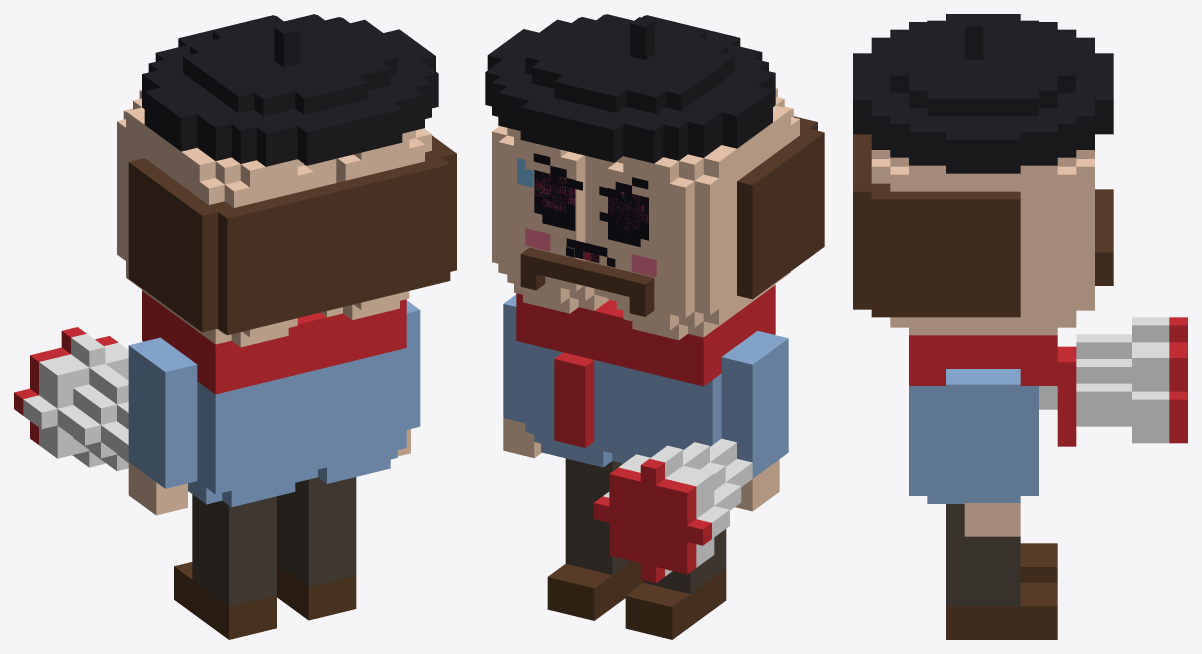
The model's file is director.obj.
The picture shows the model from 3 angles, left to right: view 1: azimuth 30°, elevation 25°; view 2: azimuth 150°, elevation 25°; view 3: azimuth 270°, elevation 25°; orthographic projection. The views are drawn at different scales.
Parts seen in each view (by area): view 1: pelo, boina, camisa, pantalon, cabeza, bufanda, brazos, megafono, zapatos, manos, megafono_borde; view 2: boina, cabeza, bufanda, camisa, pelo, brazos, megafono_borde, zapatos, pantalon, megafono, bigote, cara_feliz_ojos (+6 smaller); view 3: boina, pelo, cabeza, megafono, brazos, bufanda, camisa, zapatos, pantalon, megafono_borde, manos, bigote.
Boxes of the visible parts, left/top/right/bottom form: pelo: left=128, top=135, right=456, bottom=335; boina: left=142, top=14, right=438, bottom=166; camisa: left=188, top=348, right=406, bottom=507; pantalon: left=192, top=477, right=356, bottom=606; cabeza: left=117, top=89, right=431, bottom=347; bufanda: left=142, top=291, right=406, bottom=394; brazos: left=128, top=300, right=420, bottom=488; megafono: left=23, top=333, right=128, bottom=470; zapatos: left=174, top=562, right=356, bottom=639; manos: left=128, top=429, right=410, bottom=515; megafono_borde: left=14, top=327, right=118, bottom=444; boina: left=485, top=14, right=775, bottom=163; cabeza: left=492, top=88, right=799, bottom=340; bufanda: left=516, top=285, right=775, bottom=447; camisa: left=525, top=334, right=775, bottom=467; pelo: left=737, top=116, right=824, bottom=299; brazos: left=503, top=294, right=788, bottom=478; megafono_borde: left=593, top=458, right=711, bottom=583; zapatos: left=547, top=561, right=726, bottom=639; pantalon: left=565, top=458, right=726, bottom=593; megafono: left=603, top=438, right=752, bottom=576; bigote: left=520, top=247, right=654, bottom=316; cara_feliz_ojos: left=542, top=172, right=640, bottom=247; boina: left=853, top=14, right=1113, bottom=173; pelo: left=853, top=134, right=1020, bottom=317; cabeza: left=871, top=150, right=1094, bottom=335; megafono: left=1039, top=317, right=1169, bottom=443; brazos: left=946, top=369, right=1020, bottom=502; bufanda: left=909, top=335, right=1076, bottom=446; camisa: left=909, top=386, right=1038, bottom=503; zapatos: left=946, top=543, right=1057, bottom=639; pantalon: left=946, top=504, right=1020, bottom=606; megafono_borde: left=1169, top=317, right=1187, bottom=443; manos: left=964, top=503, right=1020, bottom=536; bigote: left=1095, top=189, right=1113, bottom=285.
Bounding box in the file's own units: 0.76 × 1.4 × 0.72.
